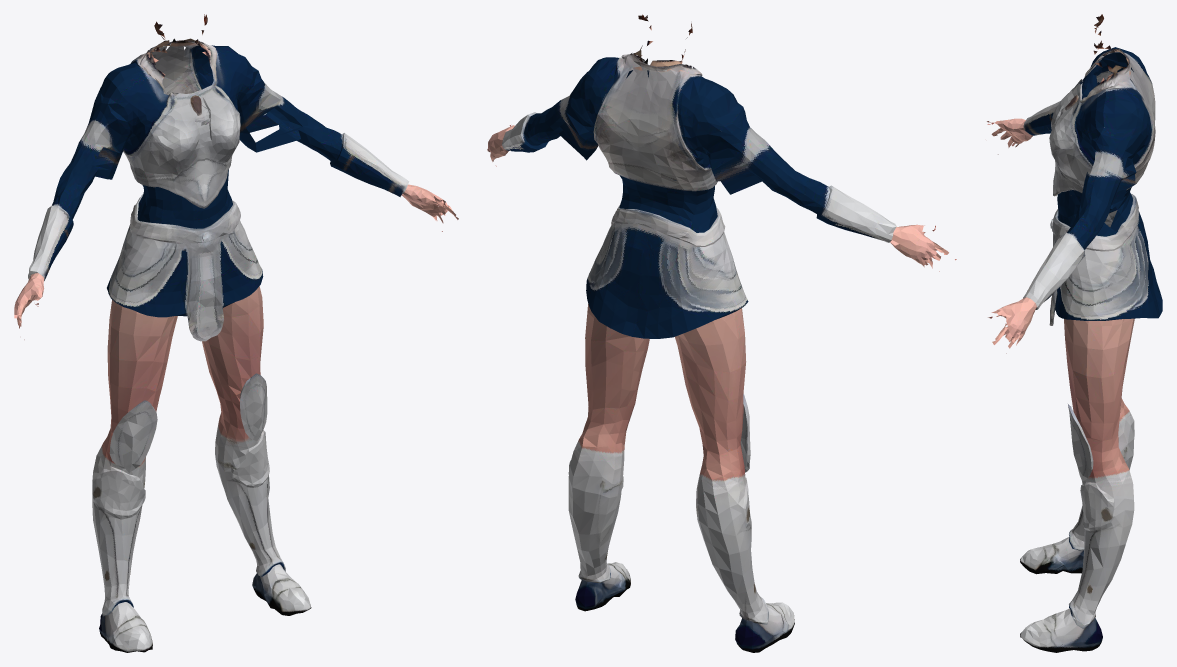
The model's file is ewm_t2valkraye_outfit.glb.
The picture shows the model from 3 angles, left to right: view 1: azimuth 30°, elevation 25°; view 2: azimuth 150°, elevation 25°; view 3: azimuth 270°, elevation 25°; orthographic projection. The views are drawn at different scales.
Visible parts, largest first — view 1: ewm_t2valkraye_outfit; view 2: ewm_t2valkraye_outfit; view 3: ewm_t2valkraye_outfit.
Part boxes in pixels (box(x1,y1,x2,y2)): ewm_t2valkraye_outfit: box(14, 14, 458, 652); ewm_t2valkraye_outfit: box(487, 14, 956, 652); ewm_t2valkraye_outfit: box(987, 14, 1162, 652).
Bounding box in the file's own units: 1.27 × 1.63 × 0.4498.
Materials: 1 (1 with a texture image).
